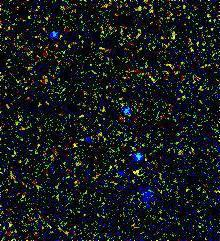star: (123, 157, 153, 187)
